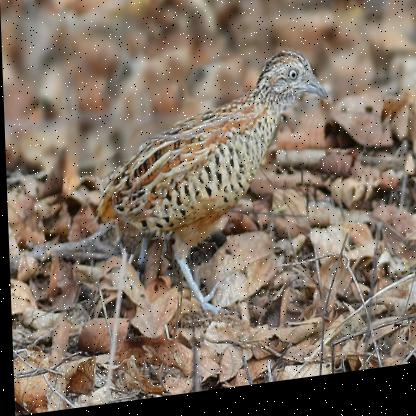Burung: (90, 53, 332, 333)
